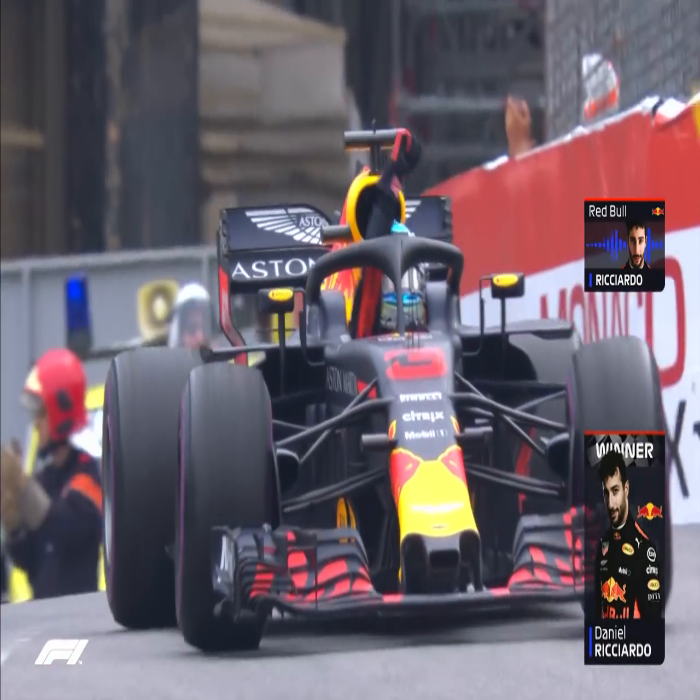f1_car: (88, 121, 679, 668)
